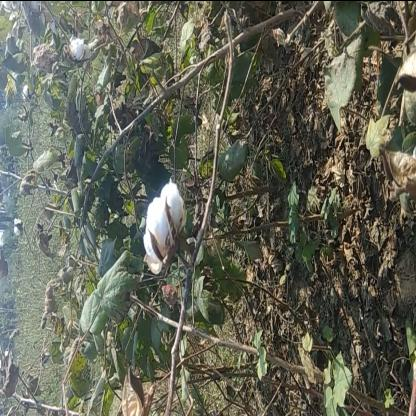cotton_ready: (132, 178, 204, 286)
